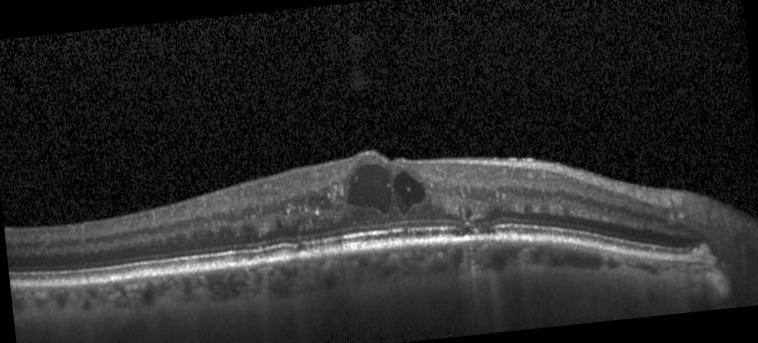intraretinal_cyst: (346, 163, 393, 213), (393, 170, 425, 214)
